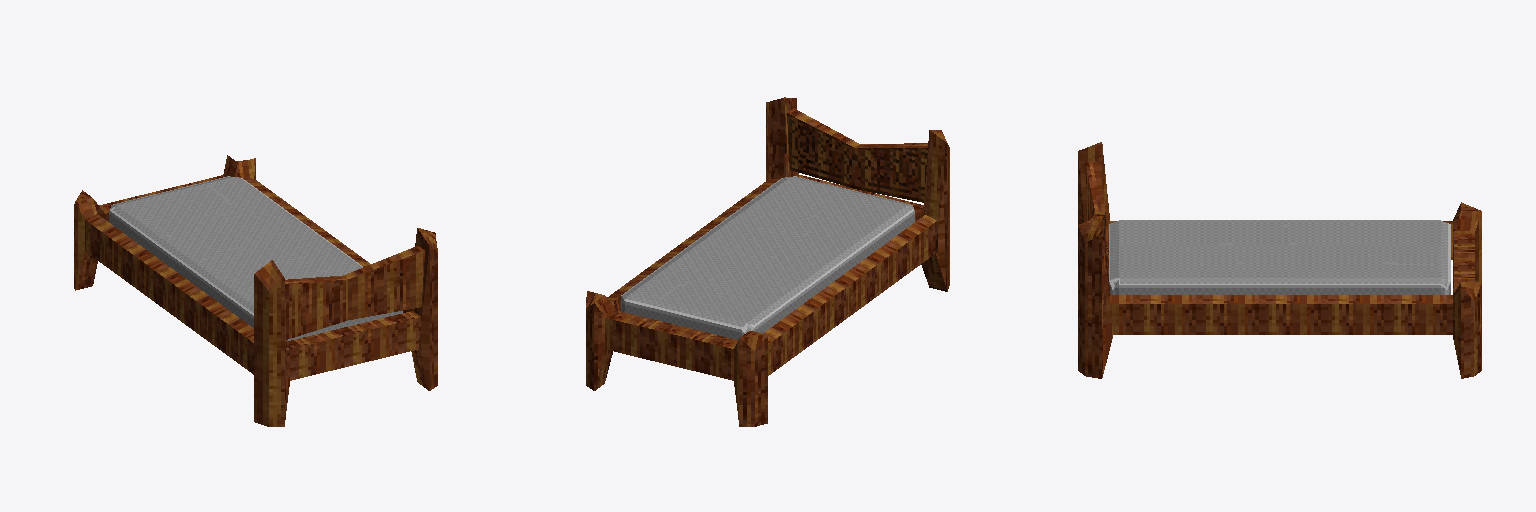
3 views of the same model, side by side, from view 1: azimuth 30°, elevation 25°; view 2: azimuth 150°, elevation 25°; view 3: azimuth 270°, elevation 25° (orthographic).
Visible parts, largest first — view 1: cuboid; view 2: cuboid; view 3: cuboid.
Boxes of the visible parts, x1,y1,x2,y2 form: cuboid: [74, 155, 437, 426]; cuboid: [586, 97, 949, 426]; cuboid: [1078, 142, 1481, 378].
Bounding box in the file's own units: 3.75 × 3.12 × 7.25.
2 materials, 2 textured.